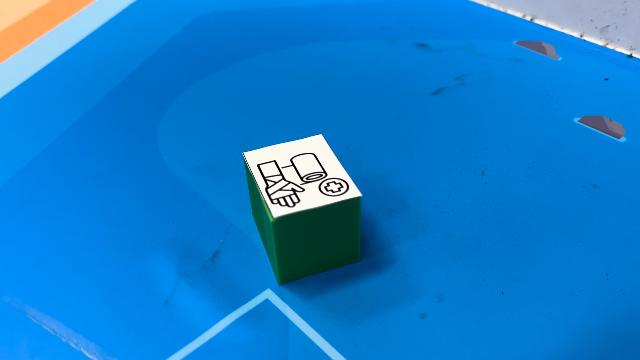bandage: (242, 133, 362, 285)
